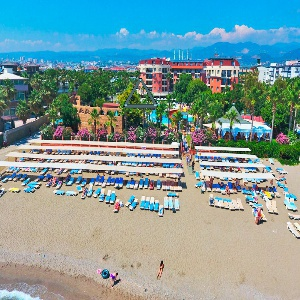triangle: (122, 75, 159, 109)
